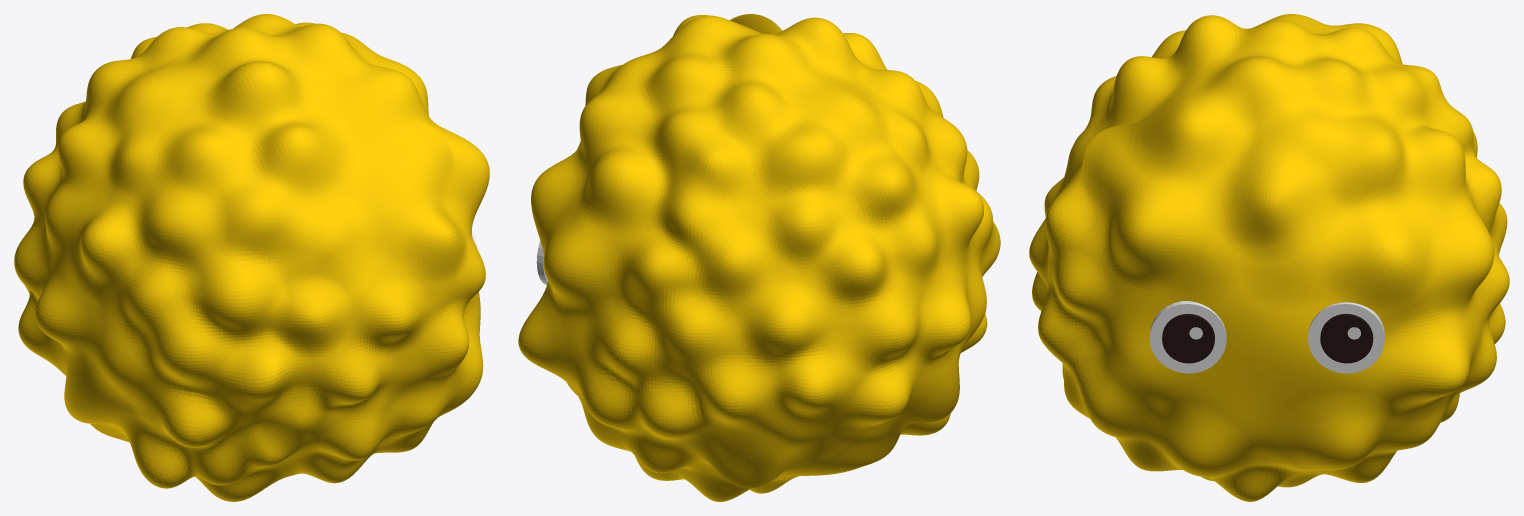
The model's file is 1Mong.fbx.
The picture shows the model from 3 angles, left to right: view 1: azimuth 30°, elevation 25°; view 2: azimuth 150°, elevation 25°; view 3: azimuth 270°, elevation 25°; orthographic projection.
Visible parts, largest first — view 1: Sphere; view 2: Sphere; view 3: Sphere, Cylinder, Cylinder.001, Cylinder.004, Cylinder.002.
Part boxes in pixels (left/top/right/bottom): Sphere: left=14, top=14, right=489, bottom=501; Sphere: left=518, top=14, right=1000, bottom=501; Sphere: left=1029, top=14, right=1509, bottom=501; Cylinder: left=1149, top=301, right=1226, bottom=373; Cylinder.001: left=1308, top=302, right=1384, bottom=373; Cylinder.004: left=1320, top=313, right=1373, bottom=363; Cylinder.002: left=1162, top=313, right=1214, bottom=363.
Bounding box in the file's own units: 220 × 228 × 203.
